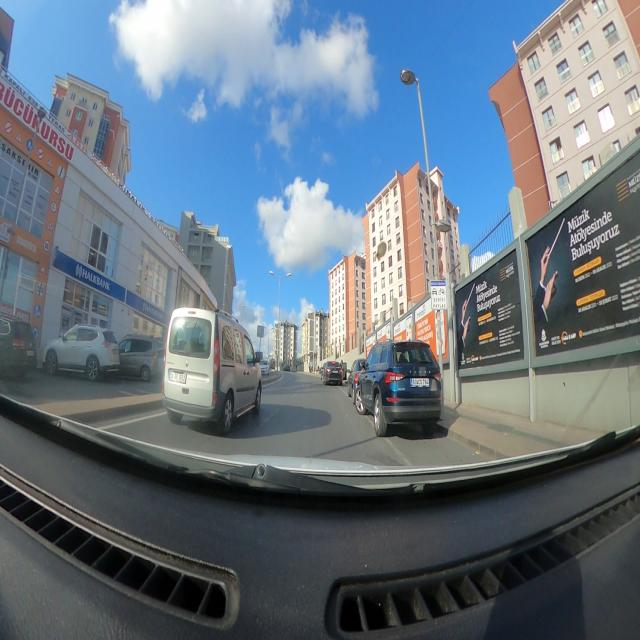SignStore: (65, 256, 119, 300), (137, 296, 167, 326)
